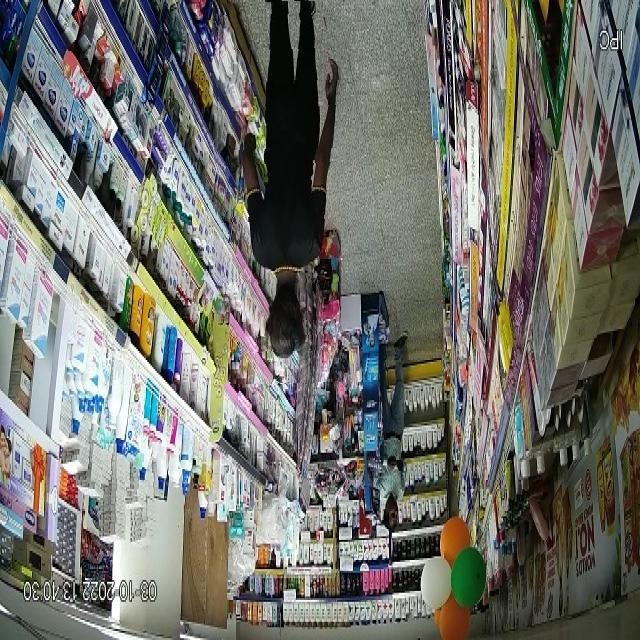Normal: (214, 0, 341, 384)
